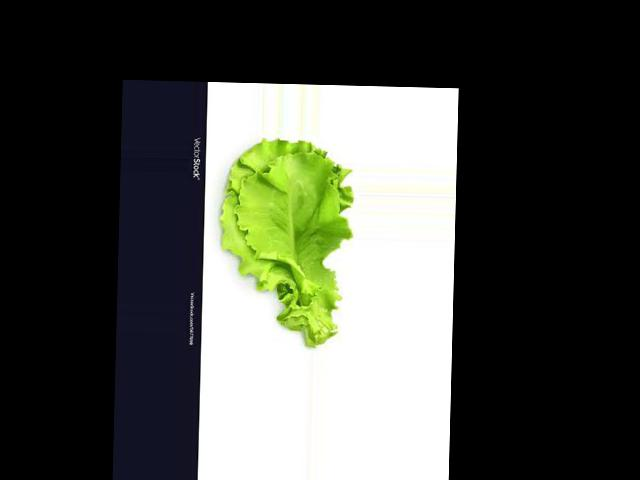lettuce: (173, 264, 342, 339)
